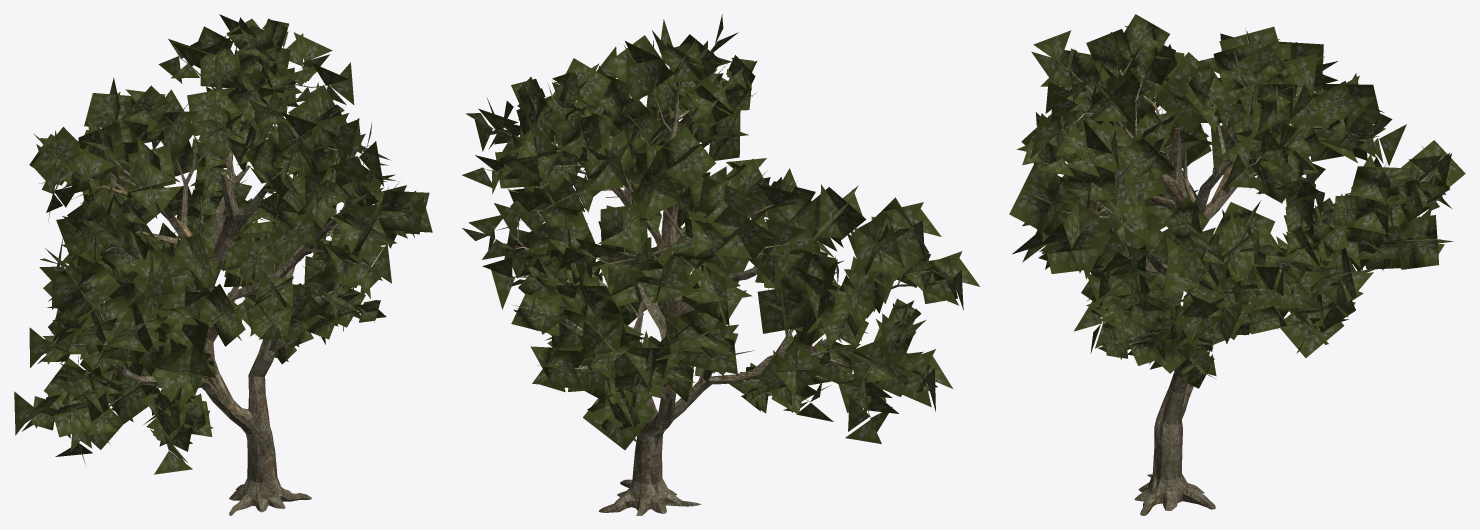
The model's file is tree.obj.
The picture shows the model from 3 angles, left to right: view 1: azimuth 30°, elevation 25°; view 2: azimuth 150°, elevation 25°; view 3: azimuth 270°, elevation 25°; orthographic projection. The views are drawn at different scales.
Bounding box in the file's own units: 1082 × 1063 × 943.
